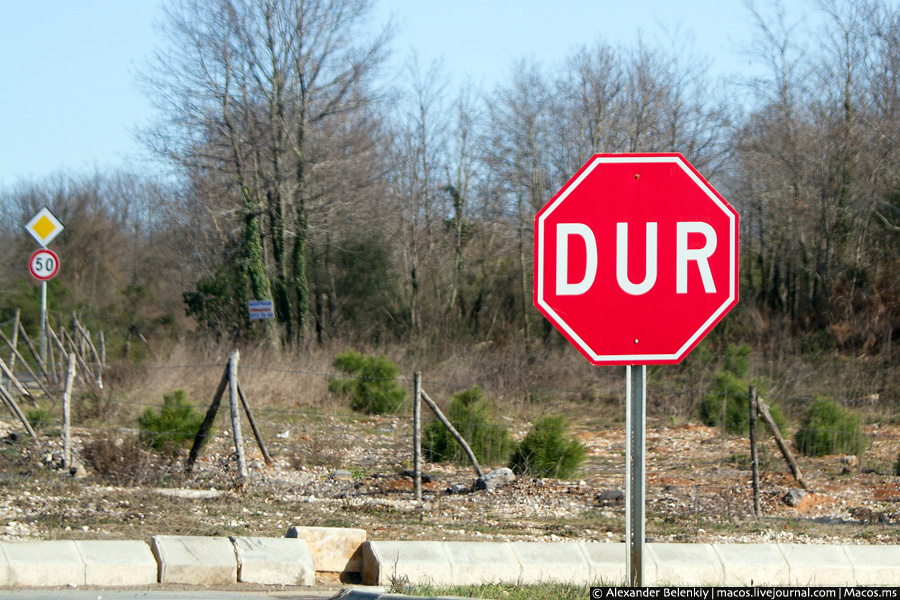dur: (527, 152, 738, 370)
